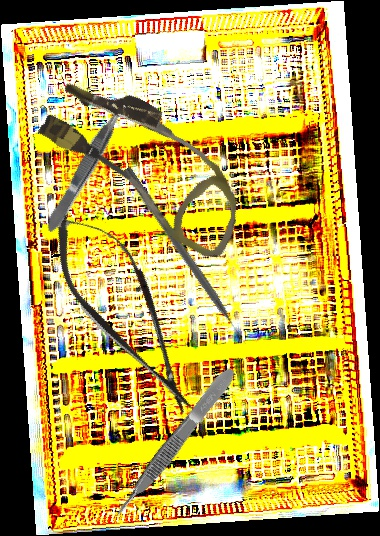Cannula: (23, 63, 270, 264)
Micro Scissor: (31, 190, 220, 432)
Pusher: (120, 165, 250, 349)
Tissue Forceps: (108, 364, 241, 521), (40, 95, 134, 235)
